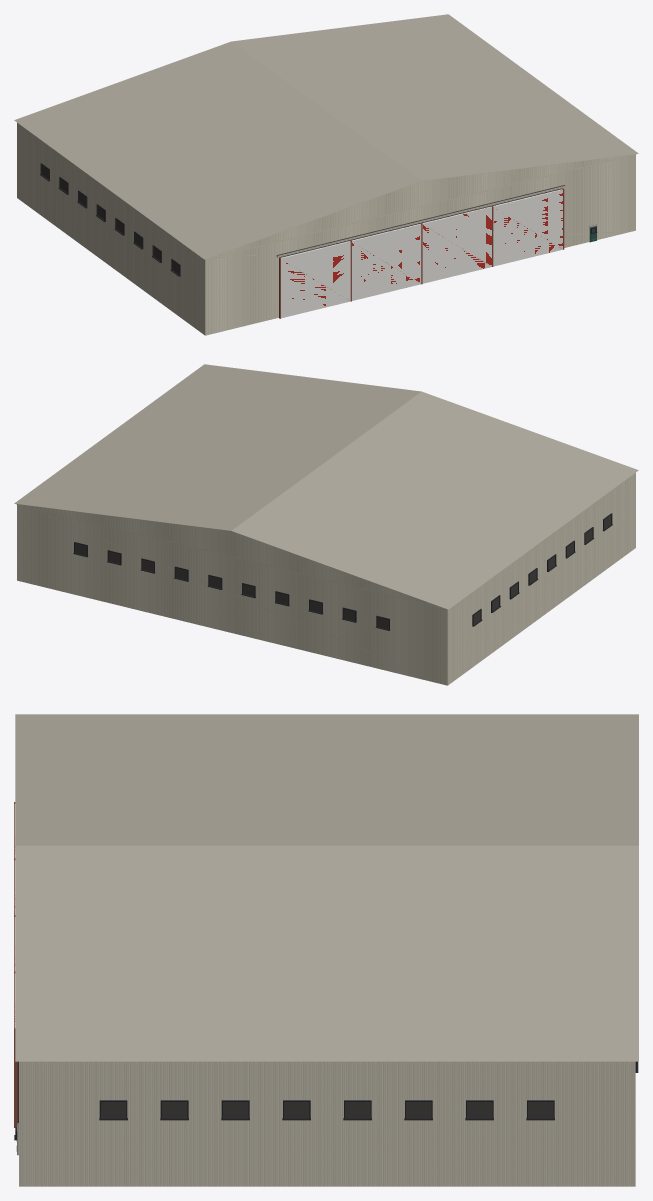
The model's file is cyxd_north_bay3.gltf.
3 renders of one model, top to bottom at view 1: azimuth 30°, elevation 25°; view 2: azimuth 150°, elevation 25°; view 3: azimuth 270°, elevation 25°, orthographic. The views are drawn at different scales.
Parts seen in each view (by area): view 1: cyxd_north_bay3; view 2: cyxd_north_bay3; view 3: cyxd_north_bay3.
Boxes of the visible parts, x1,y1,x2,y2 form: cyxd_north_bay3: [14, 14, 638, 335]; cyxd_north_bay3: [14, 364, 638, 685]; cyxd_north_bay3: [14, 714, 638, 1186].
Size of the model in its own units: 70.6 by 16 by 53.72.
